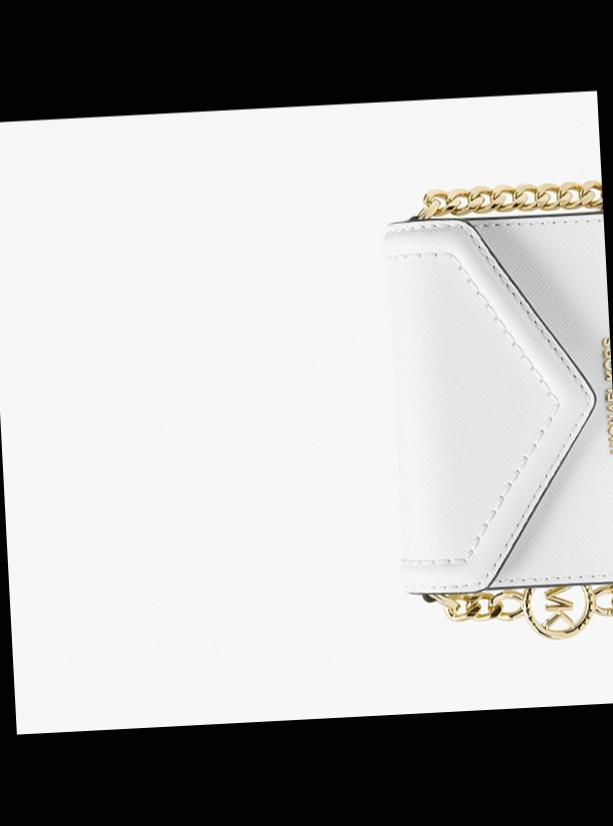MICHAEL-KORS: (600, 337, 613, 454)
